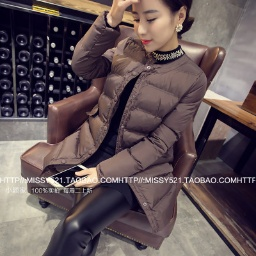face: (106, 1, 199, 55)
